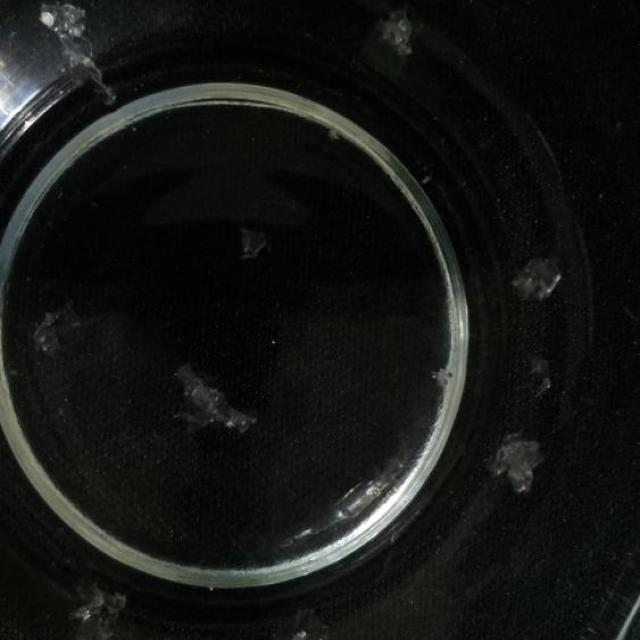fiber: (34, 0, 117, 111), (175, 356, 258, 446), (57, 572, 128, 639), (494, 426, 554, 498), (27, 292, 89, 356), (502, 250, 570, 306), (366, 2, 421, 68), (264, 612, 333, 638), (238, 222, 272, 258)
